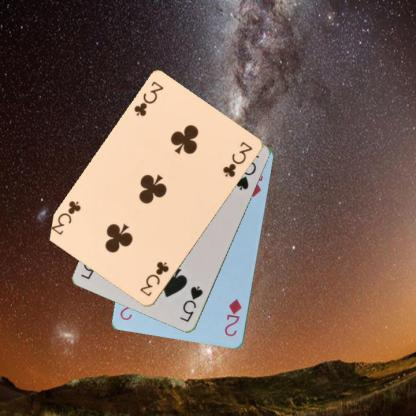2d: (222, 296, 243, 338)
3c: (131, 78, 165, 118), (137, 259, 170, 298)
5s: (178, 283, 204, 324)
